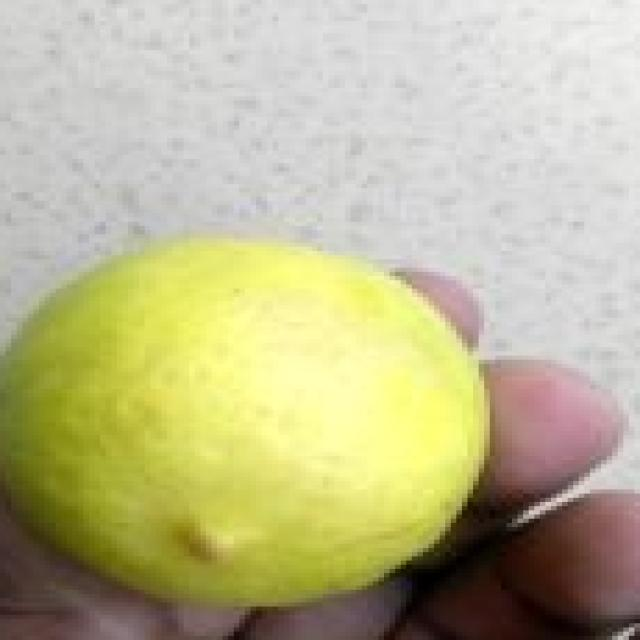Good_Lime-10-21-days: (0, 238, 495, 619)
